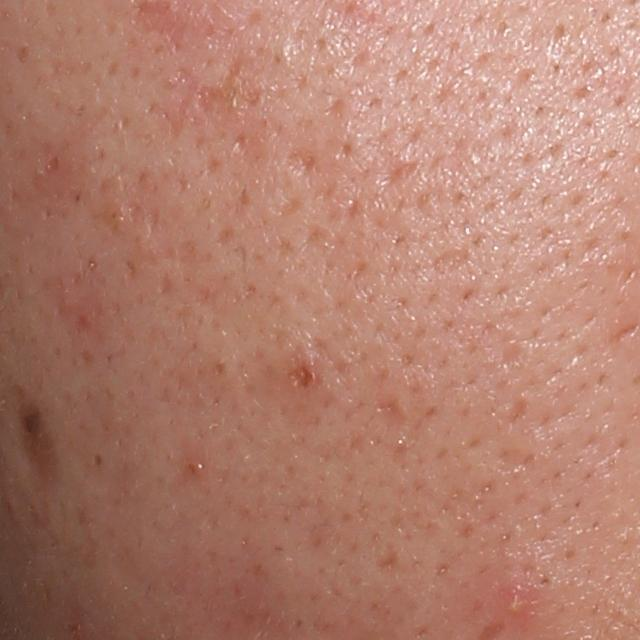atrophic_scar: (192, 56, 264, 129), (19, 407, 49, 486), (366, 392, 413, 437), (374, 546, 411, 587), (494, 444, 537, 476), (428, 245, 473, 275), (374, 161, 422, 185), (284, 147, 318, 180), (503, 392, 530, 421)
comedo: (85, 447, 107, 473)
pustule: (487, 573, 549, 632)
